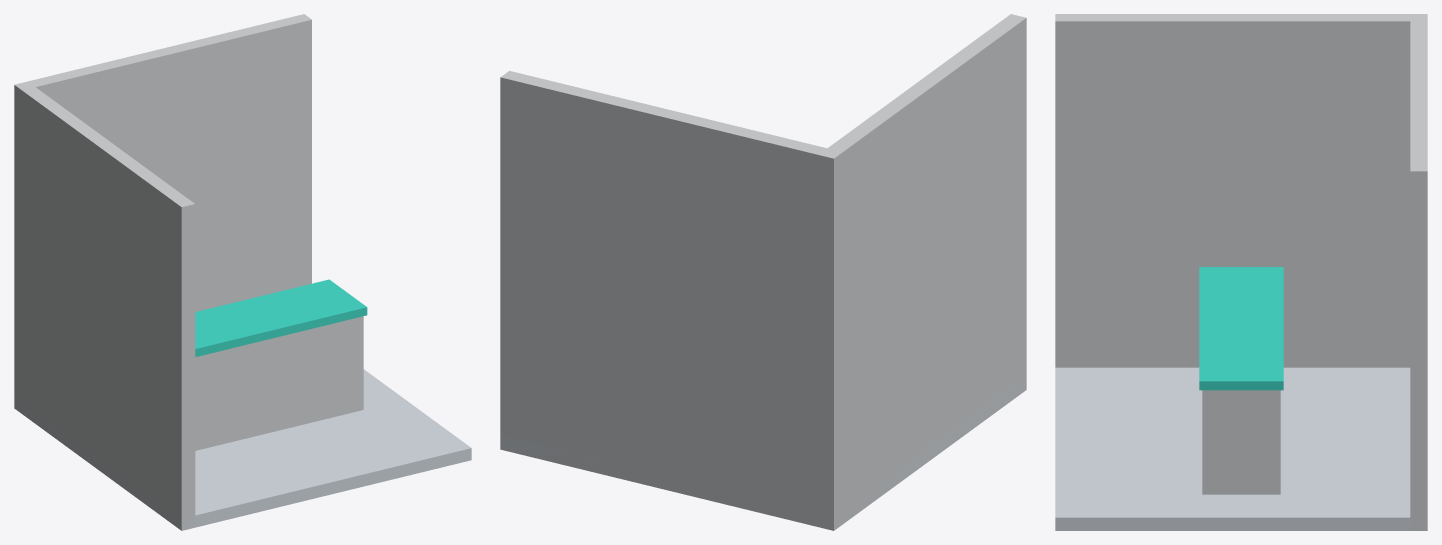
3 renders of one model, left to right at view 1: azimuth 30°, elevation 25°; view 2: azimuth 150°, elevation 25°; view 3: azimuth 270°, elevation 25°, orthographic. The views are drawn at different scales.
Visible parts, largest first — view 1: Exhibition Booth Concept; view 2: Exhibition Booth Concept; view 3: Exhibition Booth Concept.
Part boxes in pixels (box(x1,y1,x2,y2)): Exhibition Booth Concept: box(14, 14, 471, 530); Exhibition Booth Concept: box(500, 14, 1026, 530); Exhibition Booth Concept: box(1055, 14, 1427, 530).
Bounding box in the file's own units: 3 × 3.2 × 3.
